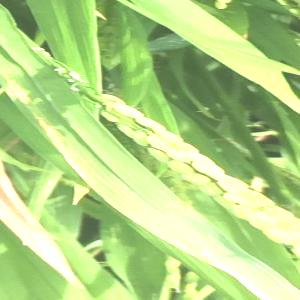2 BacterialBlight: (3, 71, 75, 136)
